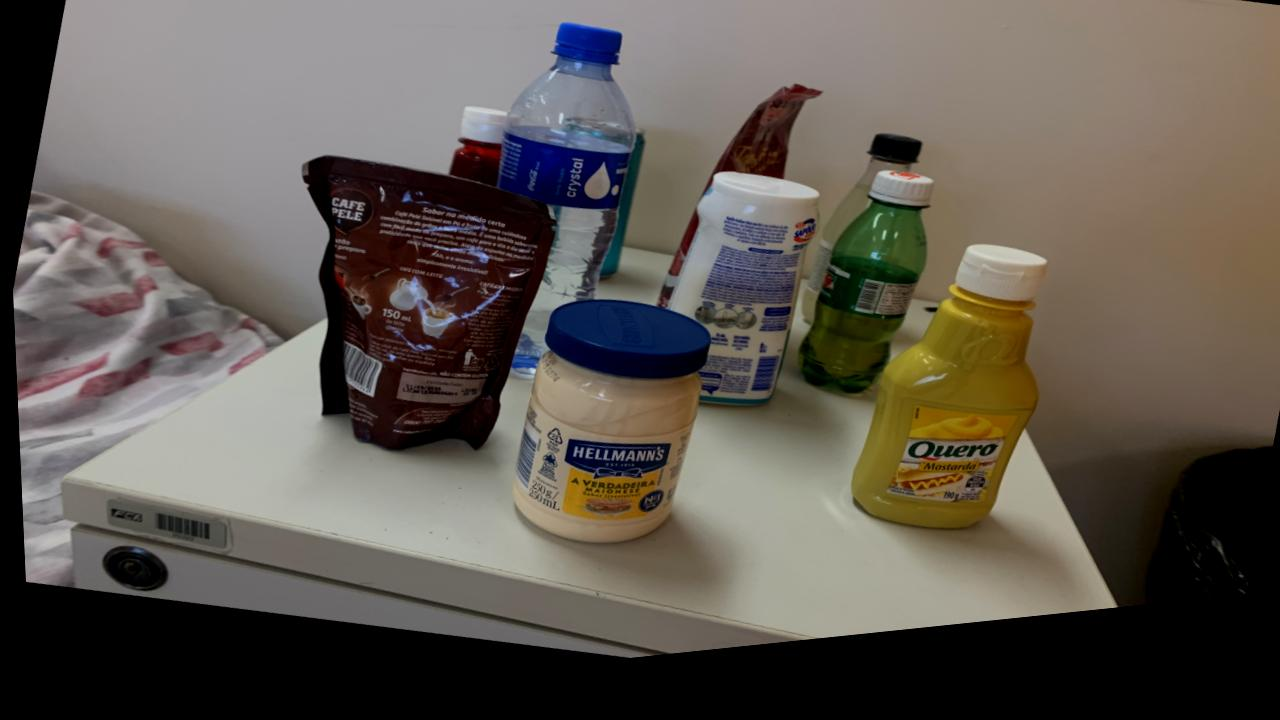Cleaner-Cleanup_Items: (663, 187, 817, 421)
Coffee-Pantry_Items: (299, 162, 553, 457)
Guarana-Drinks: (794, 188, 930, 411)
Ketchup-Pantry_Items: (447, 116, 506, 196)
Mayonnaise-Pantry_Items: (506, 311, 706, 555)
Mustard-Pantry_Items: (845, 265, 1043, 548)
Soap-Cleanup_Items: (796, 152, 918, 340)
Soda-Drinks: (796, 152, 918, 340)
Tomato_Sauce-Pantry_Items: (711, 101, 819, 196), (653, 227, 696, 321)
Water_Bottle-Drinks: (495, 34, 634, 387)
